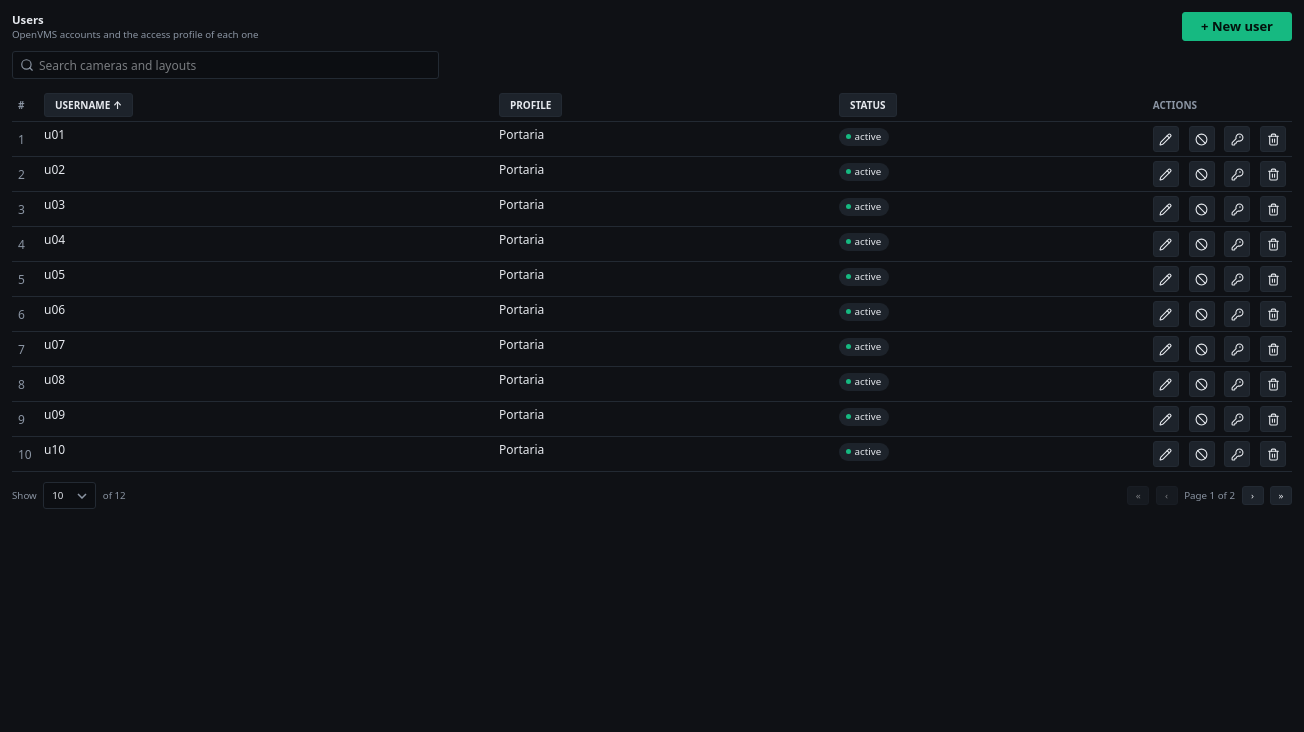
Scenario: UsersTable (spec 2026-10-18 4.3; server-side since 2026-10-20 §5) › the footer shows the count and the 4 buttons disable at the ends
This screenshot has width=1304, height=732.
Expected: the text "u01" is shown, [44,126,65,143]
Expected: the button named "First page" is disabled, [1127,486,1149,505]
Click the button named "Next page" at coordinates (1252, 496), box [1242,486,1264,505]
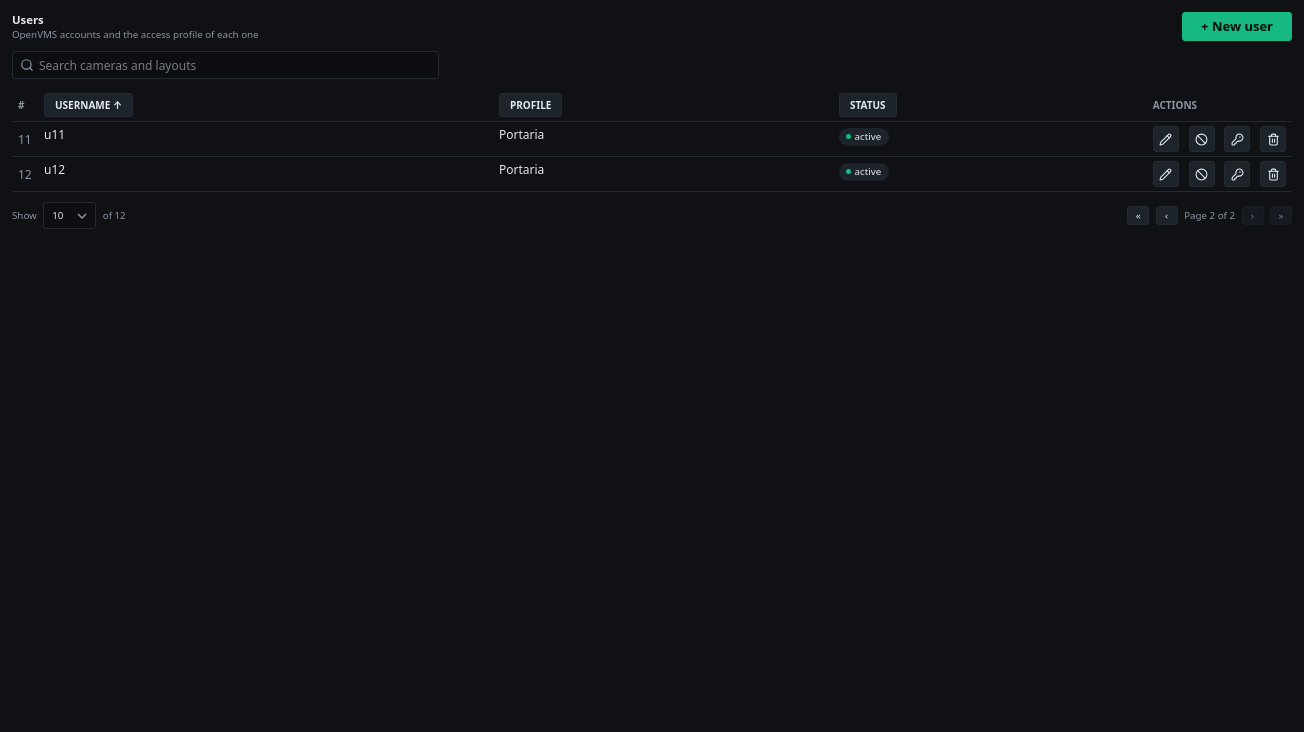
Result: the text "Page 2 of 2" is shown at [1184,209,1235,222]
Result: the text "u11" is shown at [44,126,65,143]
Result: the button named "Next page" is disabled at [1242,206,1264,225]
